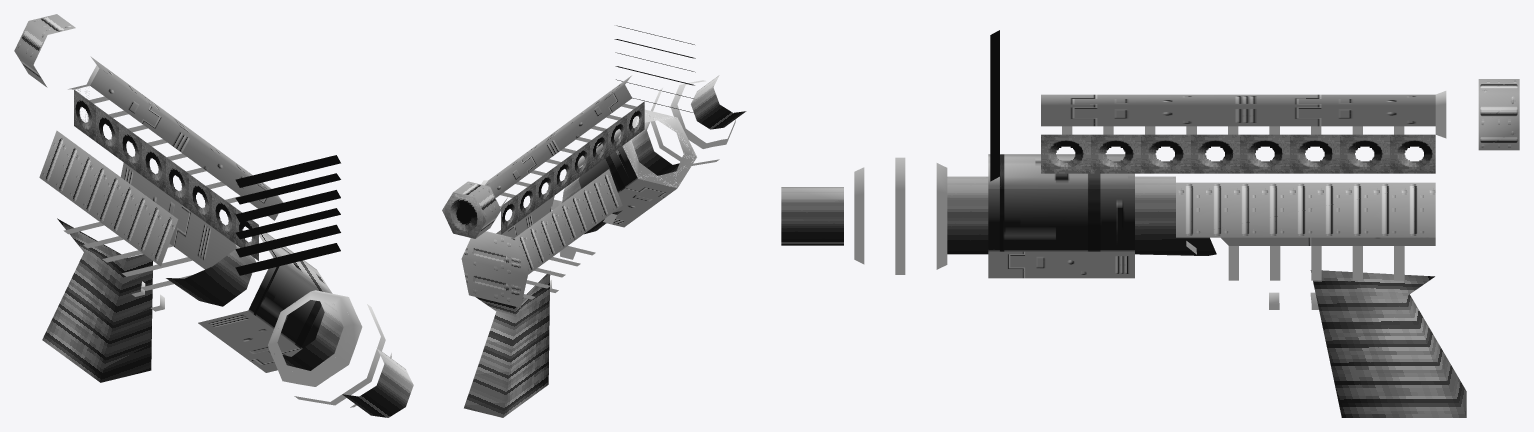
Rendered from gun.glb.
3 views of the same model, side by side, from view 1: azimuth 30°, elevation 25°; view 2: azimuth 150°, elevation 25°; view 3: azimuth 270°, elevation 25° (orthographic). The views are drawn at different scales.
Parts seen in each view (by area): view 1: m7, m13, m8, m4, m5, m6, m10CullBoth, m11; view 2: m13, m7, m8, m5, m12, m6, m4, m11, m9, m10CullBoth; view 3: m7, m8, m13, m6, m11, m4, m5, m10CullBoth.
Boxes of the visible parts, x1,y1,x2,y2 form: m7: [90, 56, 301, 372]; m13: [42, 218, 152, 382]; m8: [14, 14, 178, 266]; m4: [166, 238, 413, 417]; m5: [63, 65, 391, 407]; m6: [74, 90, 258, 260]; m10CullBoth: [235, 155, 340, 275]; m11: [248, 233, 332, 349]; m13: [464, 274, 550, 417]; m7: [485, 75, 676, 237]; m8: [453, 169, 622, 274]; m5: [481, 80, 735, 299]; m12: [461, 231, 527, 307]; m6: [501, 101, 644, 234]; m4: [562, 75, 746, 234]; m11: [565, 129, 637, 192]; m9: [442, 192, 486, 238]; m10CullBoth: [614, 25, 695, 113]; m7: [988, 94, 1435, 278]; m8: [1176, 79, 1519, 237]; m13: [1310, 270, 1466, 417]; m6: [1041, 134, 1435, 173]; m11: [988, 154, 1134, 251]; m4: [781, 176, 1216, 255]; m5: [854, 91, 1446, 309]; m10CullBoth: [990, 30, 999, 181].
Bounding box in the file's own units: 68 × 205 × 378.
Materials: 10 (10 with a texture image).
